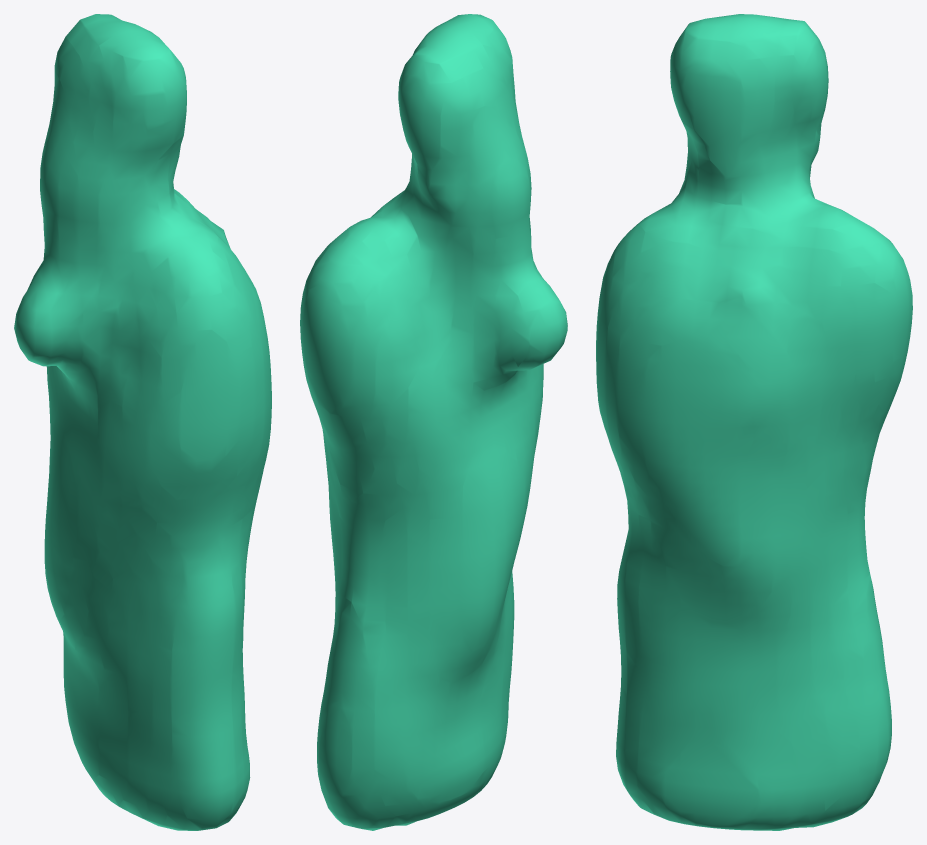
The picture shows the model from 3 angles, left to right: view 1: azimuth 30°, elevation 25°; view 2: azimuth 150°, elevation 25°; view 3: azimuth 270°, elevation 25°; orthographic projection.
Parts seen in each view (by area): view 1: Liquid_Domain; view 2: Liquid_Domain; view 3: Liquid_Domain.
Boxes of the visible parts, <box> form: Liquid_Domain: <box>14,14,271,830</box>; Liquid_Domain: <box>300,14,567,830</box>; Liquid_Domain: <box>596,14,912,830</box>.
Size of the model in its own units: 2.29 by 7.55 by 2.79.
